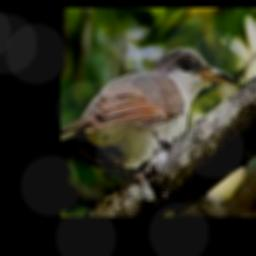Cuckoo: (61, 46, 236, 178)
